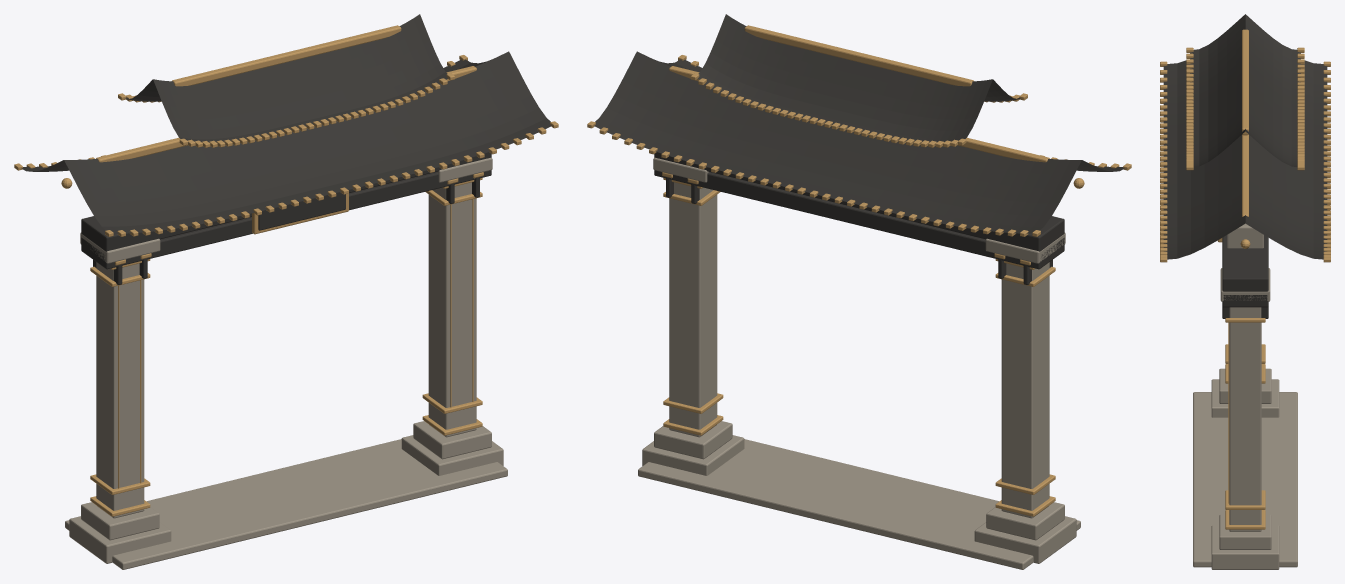
The model's file is threshold.glb.
3 renders of one model, left to right at view 1: azimuth 30°, elevation 25°; view 2: azimuth 150°, elevation 25°; view 3: azimuth 270°, elevation 25°, orthographic. The views are drawn at different scales.
Parts seen in each view (by area): view 1: Threshold_ink, Threshold_stone, Threshold_brass; view 2: Threshold_ink, Threshold_stone, Threshold_brass; view 3: Threshold_ink, Threshold_stone, Threshold_brass.
Part boxes in pixels (box(x1,y1,x2,y2)): Threshold_ink: box(21, 14, 551, 284); Threshold_stone: box(65, 157, 507, 569); Threshold_brass: box(14, 25, 558, 516); Threshold_ink: box(594, 14, 1124, 284); Threshold_stone: box(638, 157, 1080, 569); Threshold_brass: box(587, 25, 1131, 516); Threshold_ink: box(1163, 14, 1327, 318); Threshold_stone: box(1193, 223, 1297, 569); Threshold_brass: box(1160, 29, 1330, 529).
Bounding box in the file's own units: 15.17 × 14.68 × 5.54.
